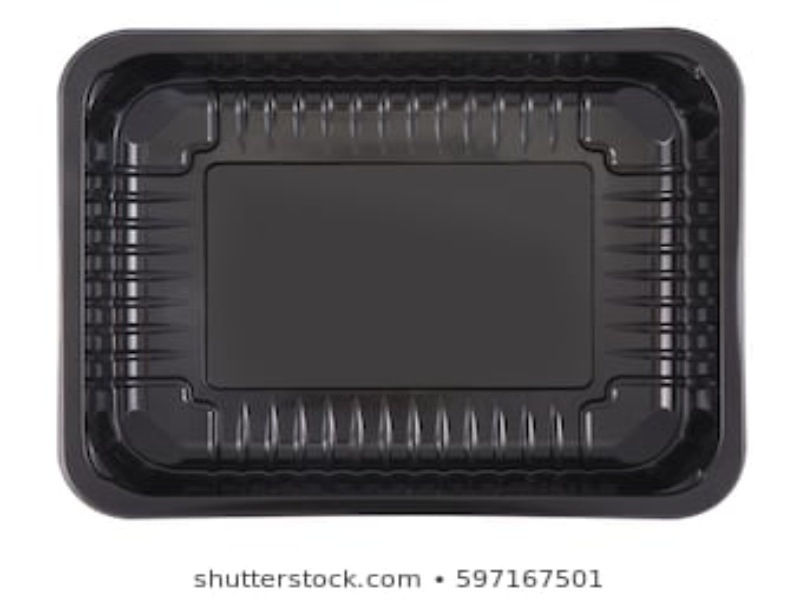plastic-tray: (50, 24, 749, 525)
